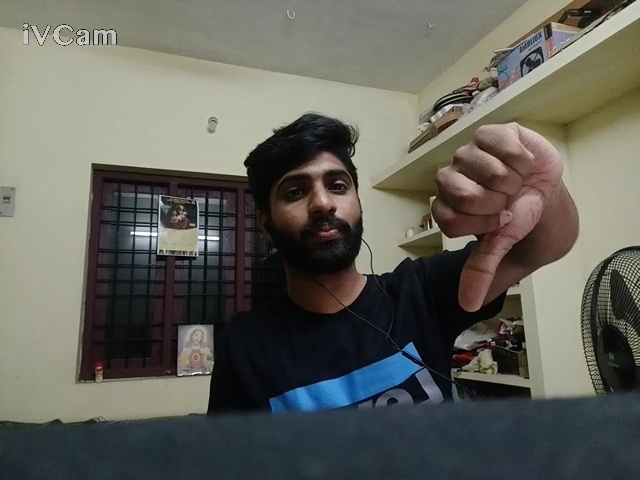No: (402, 111, 606, 315)
